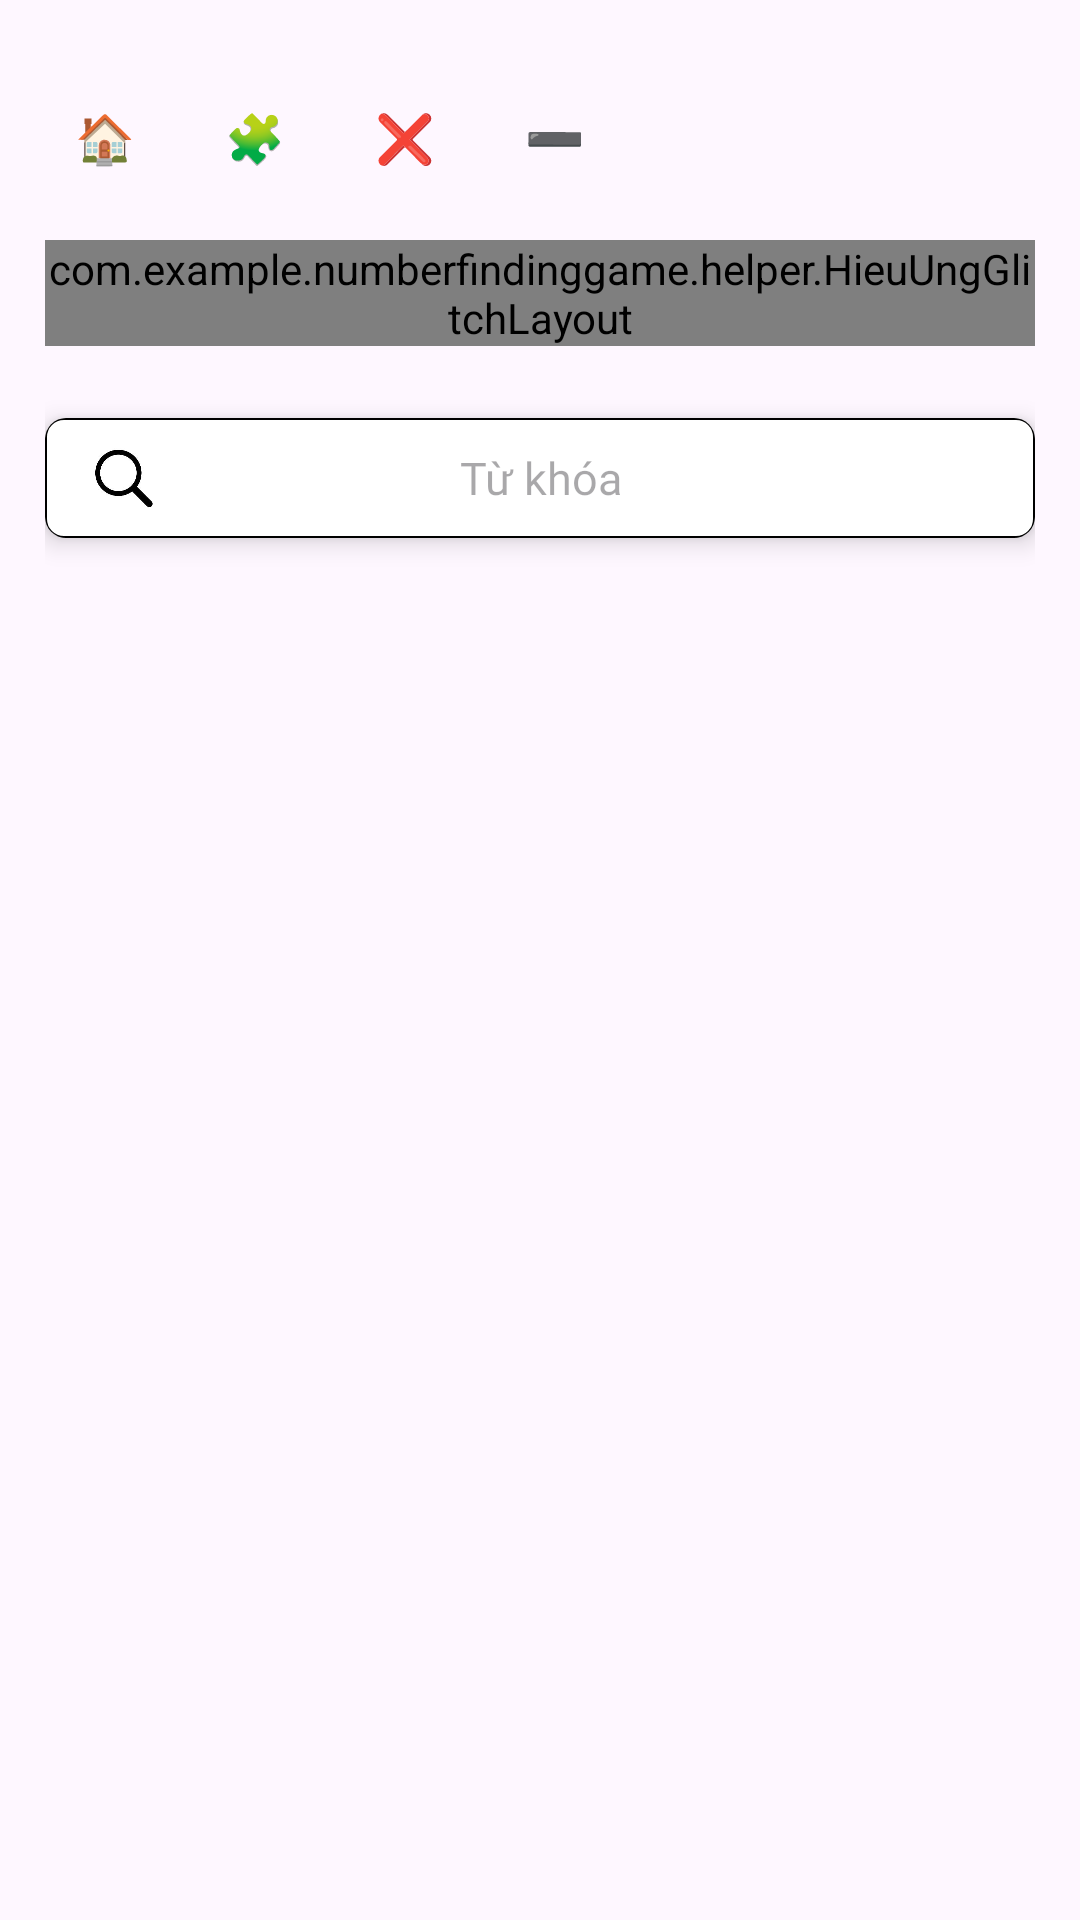

Locate icon controls on the screen. Image size 1080 x 1920, boxes as (x1, y1, x2, y2).
tim kiem: (95, 450, 153, 507)
